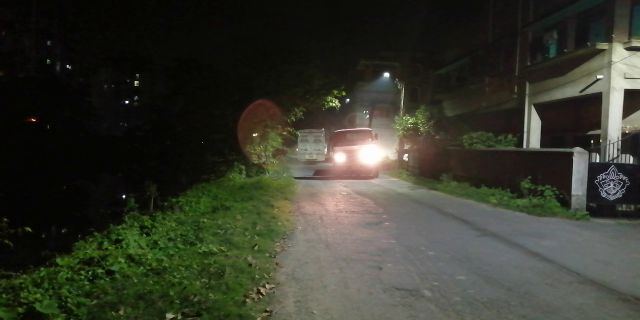Truck: (327, 124, 384, 173)
